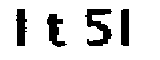5: (81, 2, 114, 48)
l: (118, 6, 140, 50), (10, 7, 29, 50)
t: (40, 9, 70, 49)
